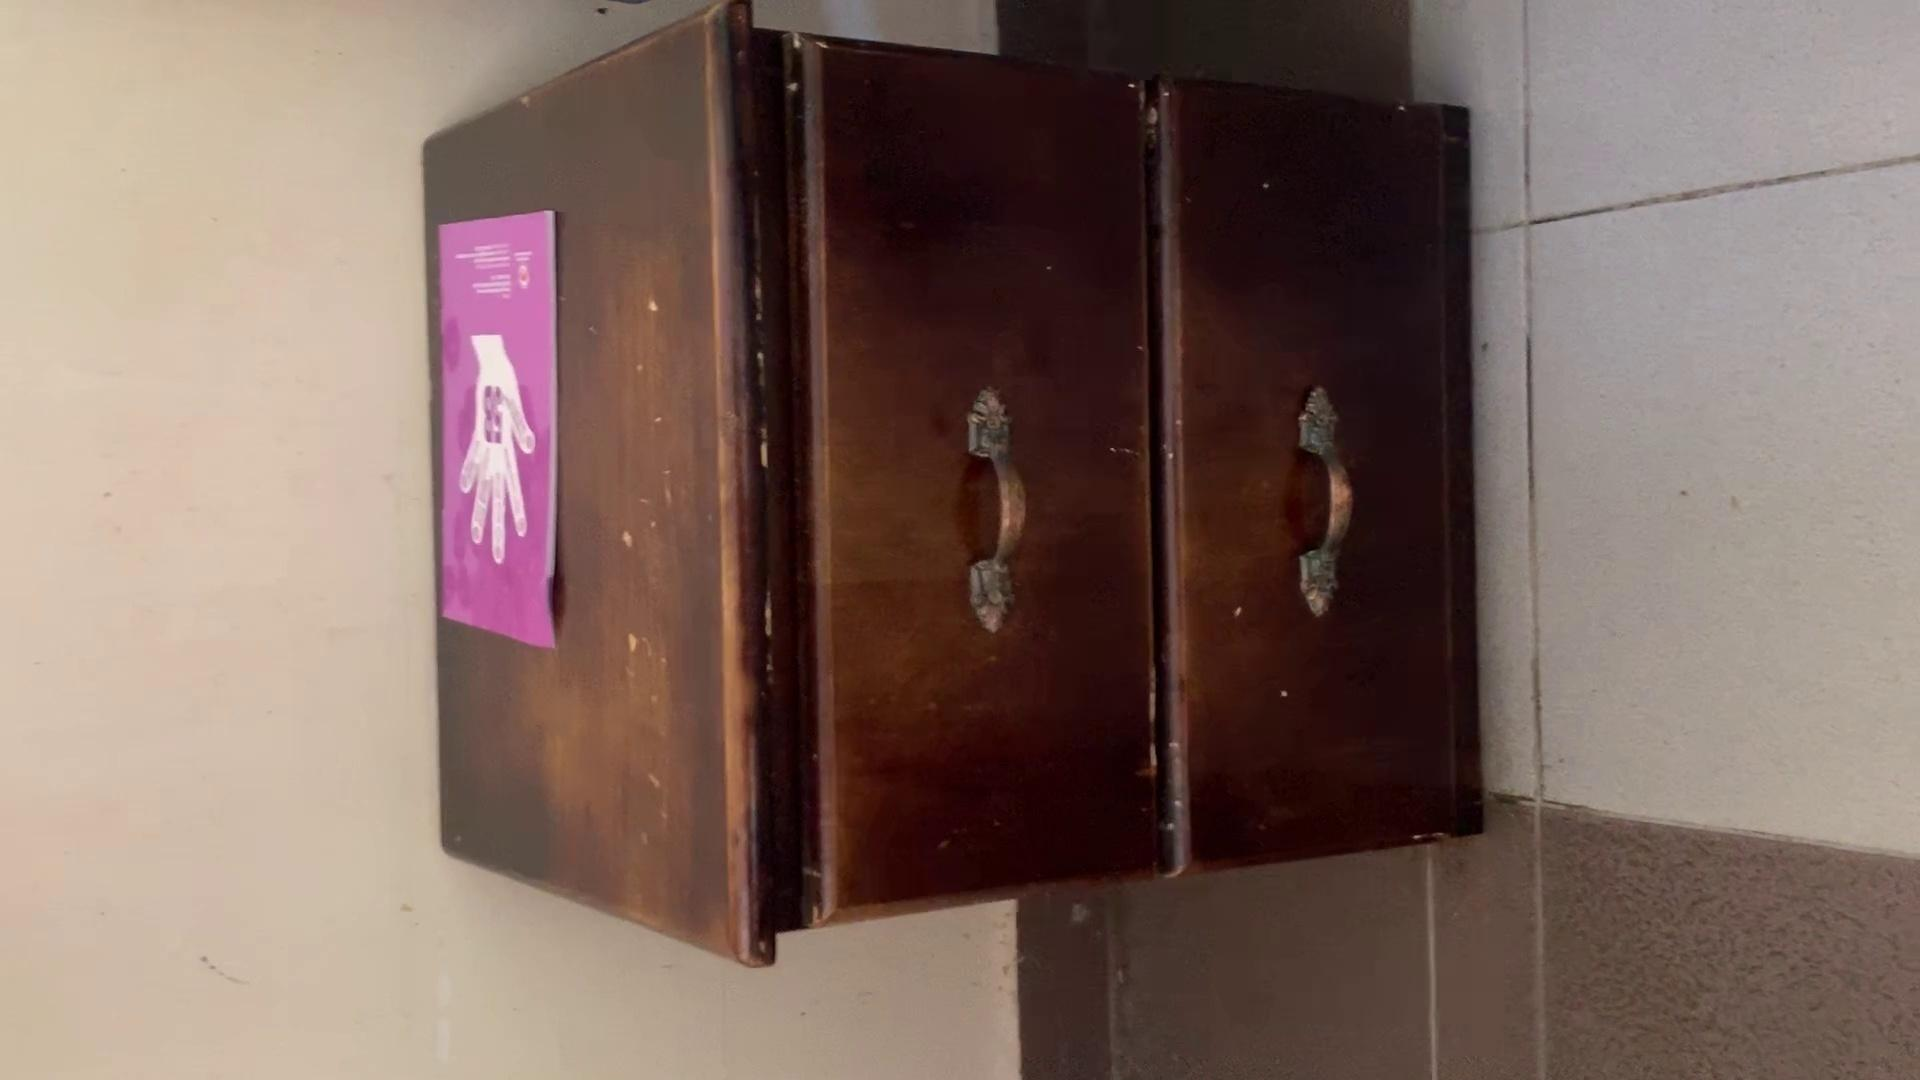cabinet_door: (807, 58, 1163, 897), (1166, 98, 1462, 856)
handle: (1284, 375, 1364, 628), (956, 378, 1031, 644)
